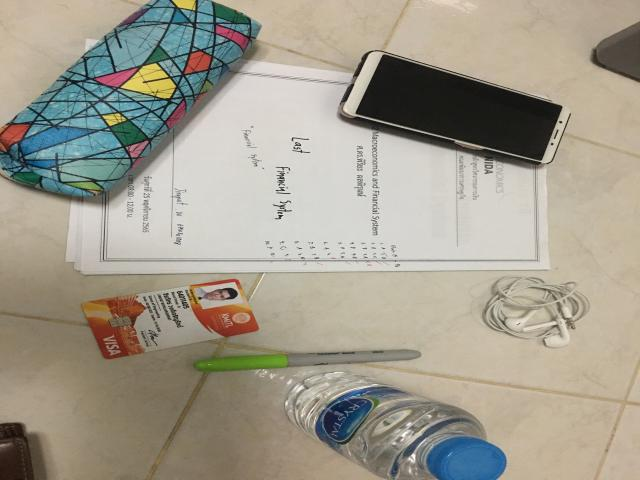Mobile phone: (340, 51, 570, 164)
Pen: (193, 350, 422, 372)
Wallet: (0, 423, 35, 480)
bottle: (285, 372, 507, 480)
paper: (67, 38, 550, 275)
wire: (485, 277, 590, 348)
